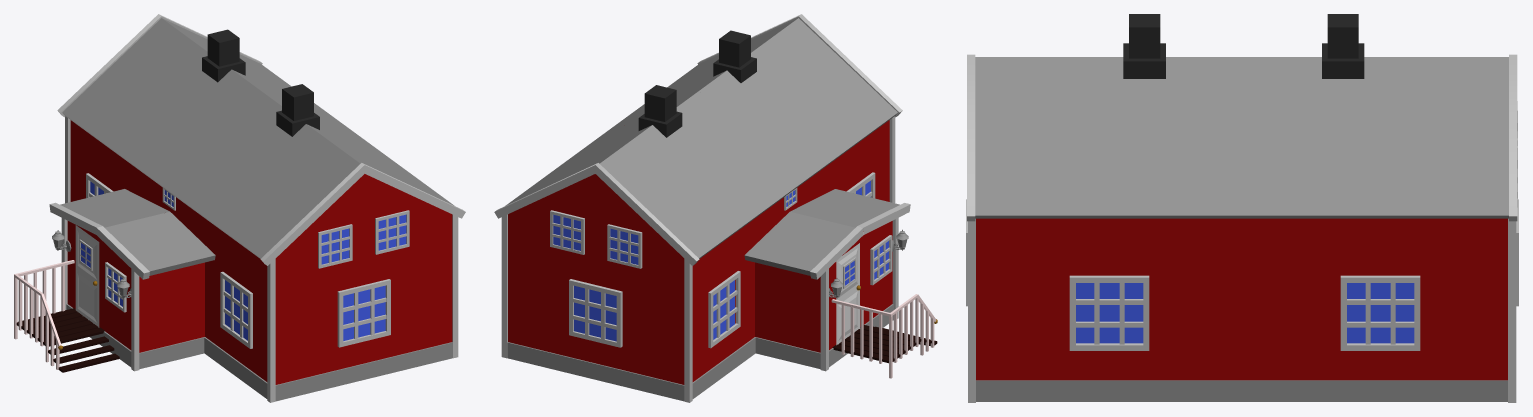
File: Enviorment_NorwegianGenericHouse_002.FBX
The picture shows the model from 3 angles, left to right: view 1: azimuth 30°, elevation 25°; view 2: azimuth 150°, elevation 25°; view 3: azimuth 270°, elevation 25°; orthographic projection. The views are drawn at different scales.
Parts seen in each view (by area): view 1: Roof, House, Frontpiece, Floor, Support, Window Outer Frame, Beams, Glass, Chimney, Railing, Stairs, Window Inner Frame (+2 smaller); view 2: Roof, House, Frontpiece, Floor, Support, Beams, Window Outer Frame, Glass, Railing, Chimney, Window Inner Frame, Door (+2 smaller); view 3: Roof, House, Floor, Glass, Chimney, Window Outer Frame, Beams, Window Inner Frame, Support.
Boxes of the visible parts, x1,y1,x2,y2 form: Roof: [60, 18, 454, 275]; House: [70, 120, 452, 384]; Frontpiece: [67, 221, 204, 352]; Floor: [66, 304, 452, 401]; Support: [49, 14, 465, 279]; Window Outer Frame: [79, 173, 409, 348]; Beams: [61, 116, 458, 402]; Glass: [81, 181, 406, 340]; Chimney: [202, 29, 319, 136]; Railing: [14, 260, 74, 369]; Stairs: [16, 308, 119, 372]; Window Inner Frame: [80, 185, 406, 338]; Roof: [505, 18, 899, 275]; House: [508, 120, 889, 384]; Frontpiece: [755, 221, 892, 352]; Floor: [507, 304, 893, 401]; Support: [494, 14, 910, 279]; Beams: [501, 116, 898, 402]; Window Outer Frame: [550, 172, 892, 348]; Glass: [553, 180, 888, 341]; Railing: [831, 294, 936, 378]; Chimney: [638, 30, 756, 137]; Window Inner Frame: [551, 185, 890, 339]; Door: [836, 243, 859, 345]; Roof: [975, 57, 1508, 218]; House: [976, 218, 1507, 380]; Floor: [976, 380, 1507, 401]; Glass: [1076, 283, 1414, 343]; Chimney: [1123, 14, 1364, 78]; Window Outer Frame: [966, 101, 1518, 350]; Beams: [968, 218, 1516, 402]; Window Inner Frame: [1076, 111, 1517, 344]; Support: [967, 54, 1517, 221].
Size of the model in its own units: 706 by 504 by 786.
